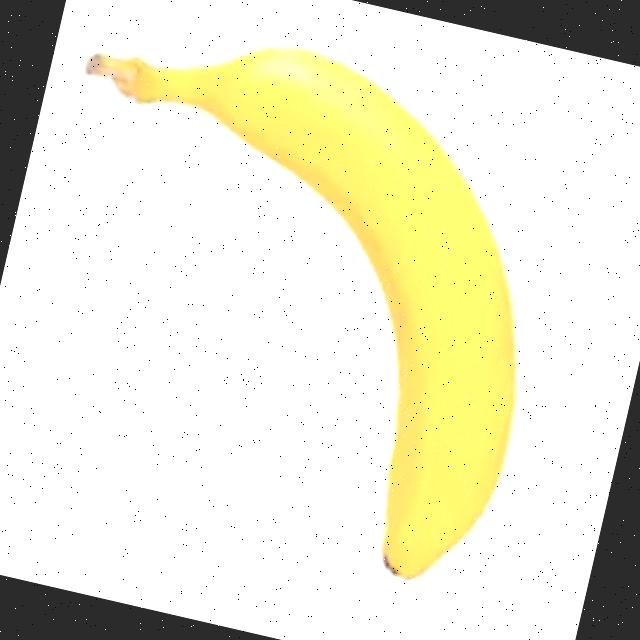banana: (0, 0, 594, 595)
